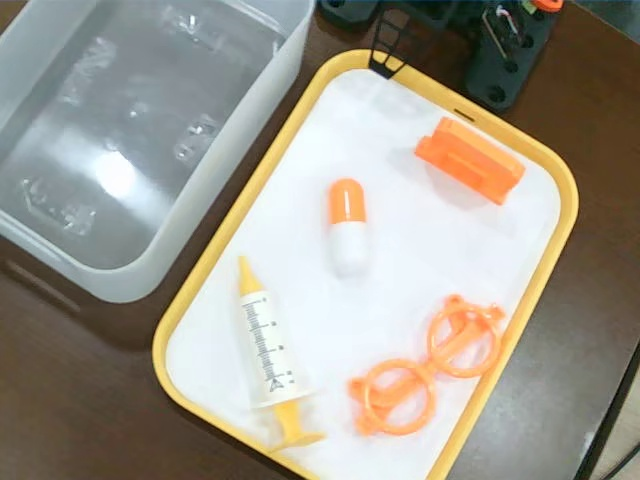pill: (325, 175, 374, 281)
syringe: (231, 252, 324, 455)
